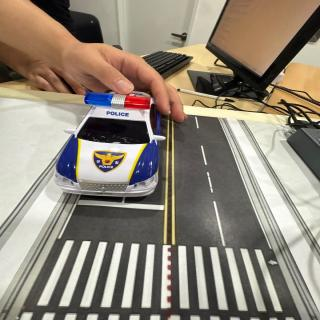Police_car: (55, 92, 165, 196)
